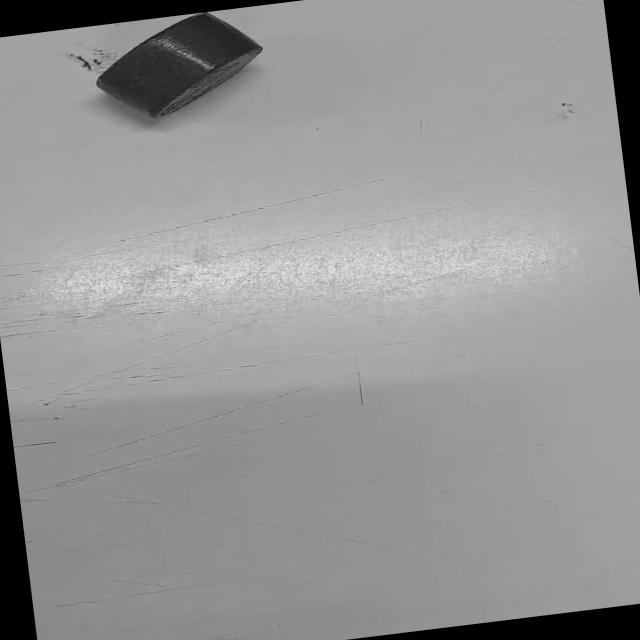rcircle: (85, 5, 272, 127)
